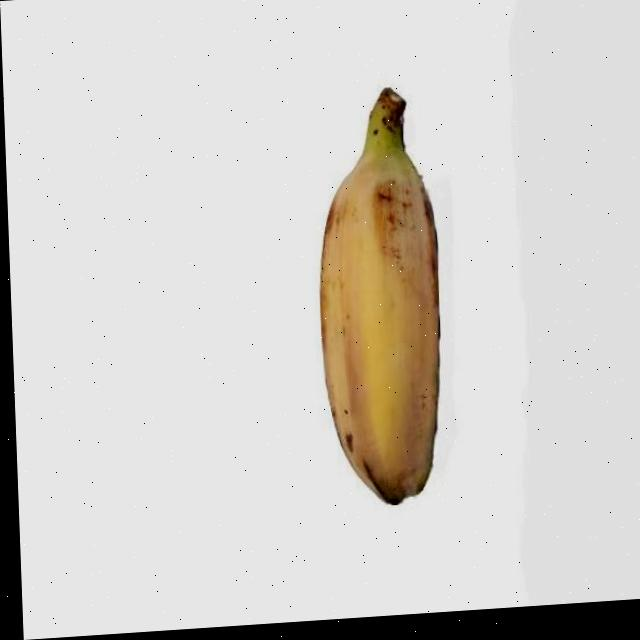banana: (305, 77, 461, 513)
